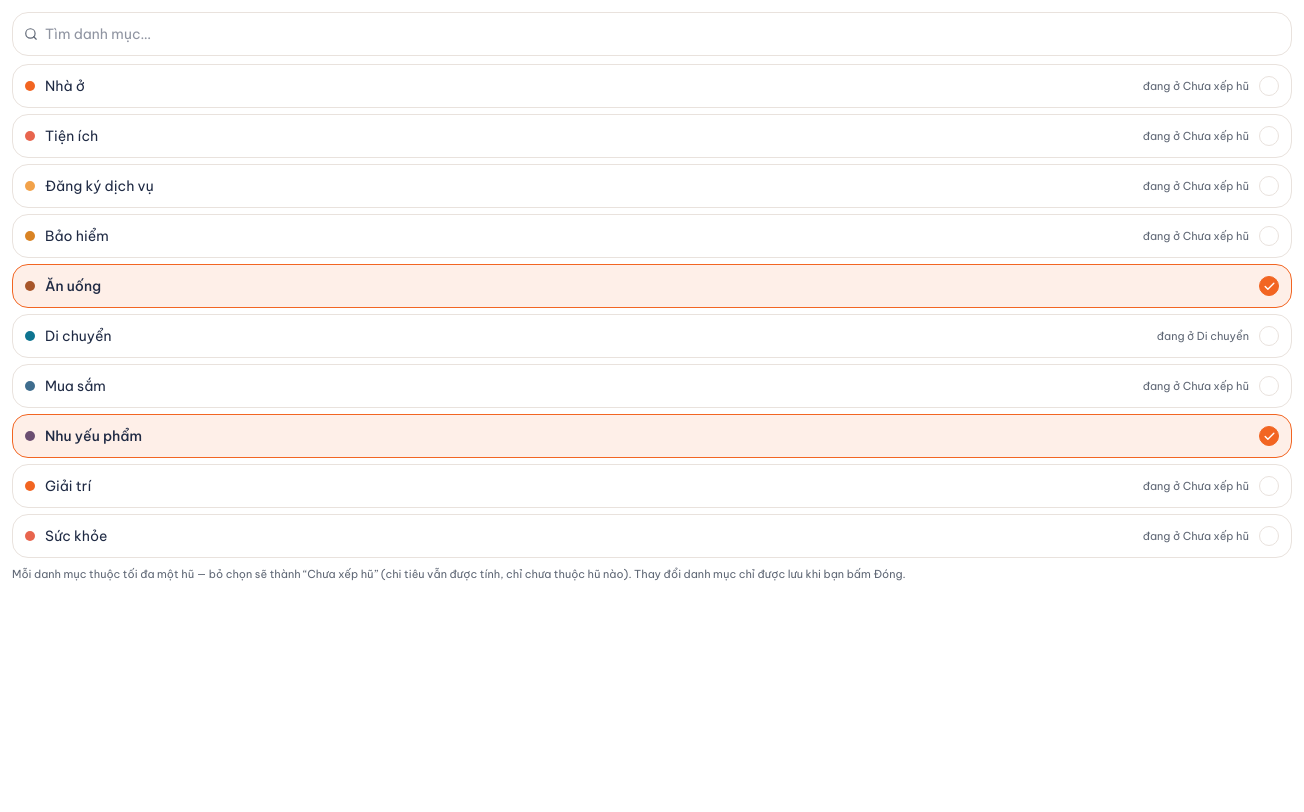
HuCategoryPicker — a draft, nothing is saved by a tap › picking a category owned by another jar labels it 'lấy từ <hũ>'; unpicking restores 'đang ở <hũ>' — it never falls to 'Chưa xếp hũ'
This screenshot has width=1304, height=812.
Expected: the text "đang ở Di chuyển" is shown, top-left (1157, 328), bottom-right (1249, 344)
Click the button "Di chuyển đang ở Di chuyển" at point(78, 336), box top-left (12, 314), bottom-right (1292, 358)
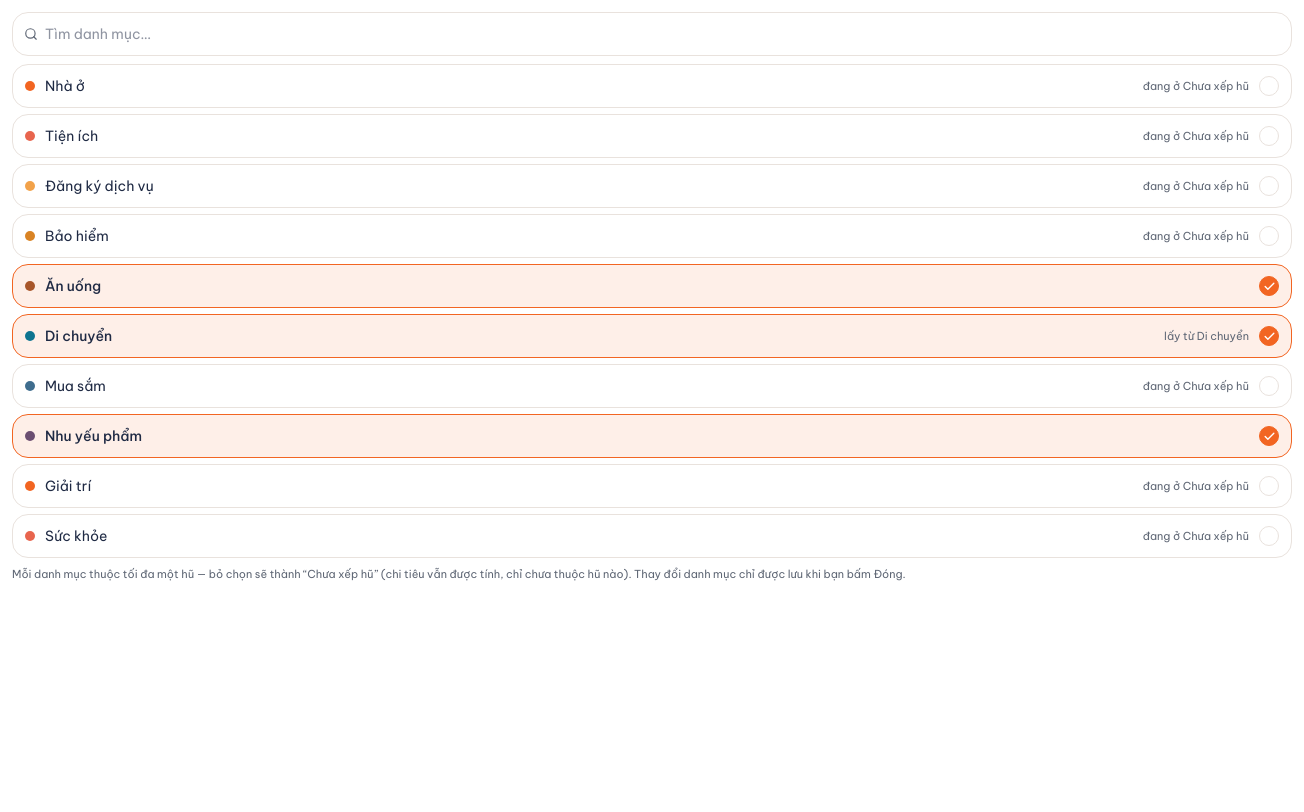
Expected: the text "lấy từ Di chuyển" is shown, top-left (1164, 328), bottom-right (1249, 344)
Click the button "Di chuyển lấy từ Di chuyển" at point(79, 336), box top-left (12, 314), bottom-right (1292, 358)
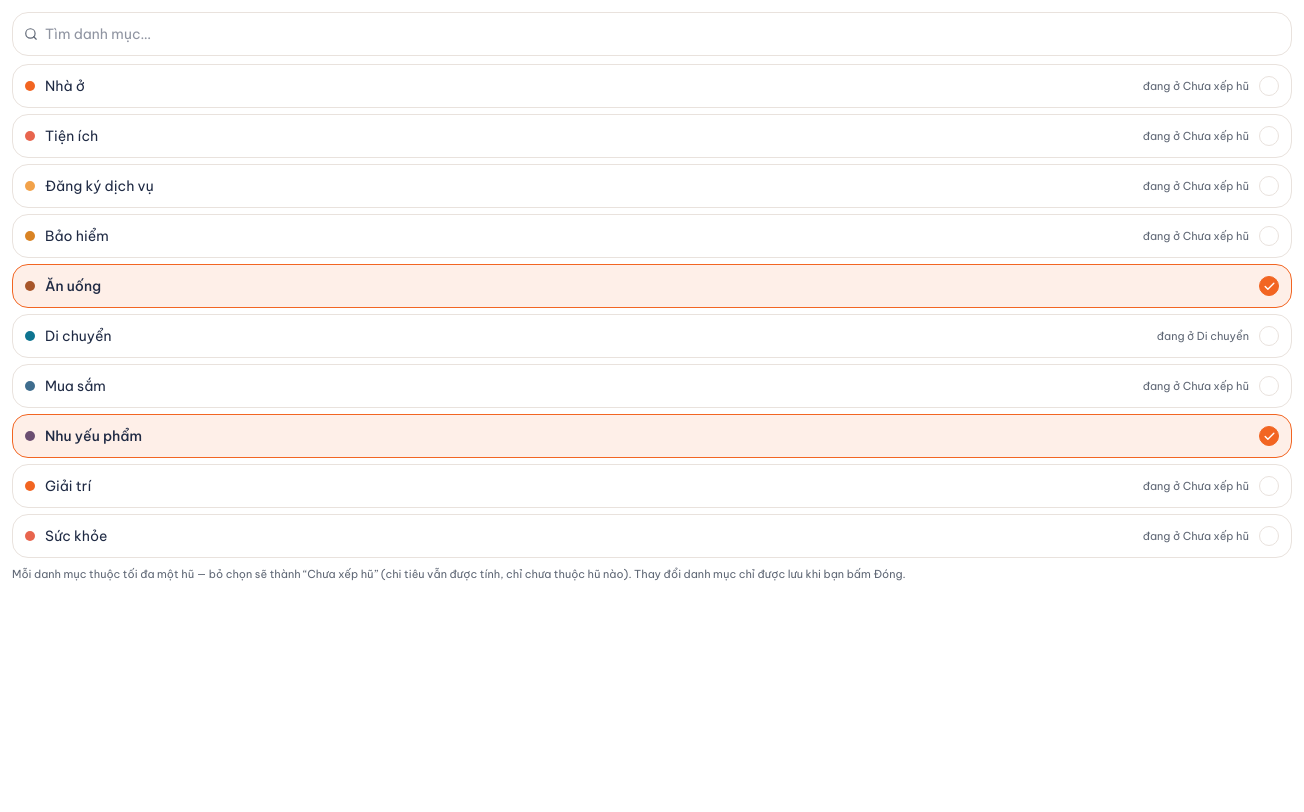
Expected: the text "đang ở Di chuyển" is shown, top-left (1157, 328), bottom-right (1249, 344)
